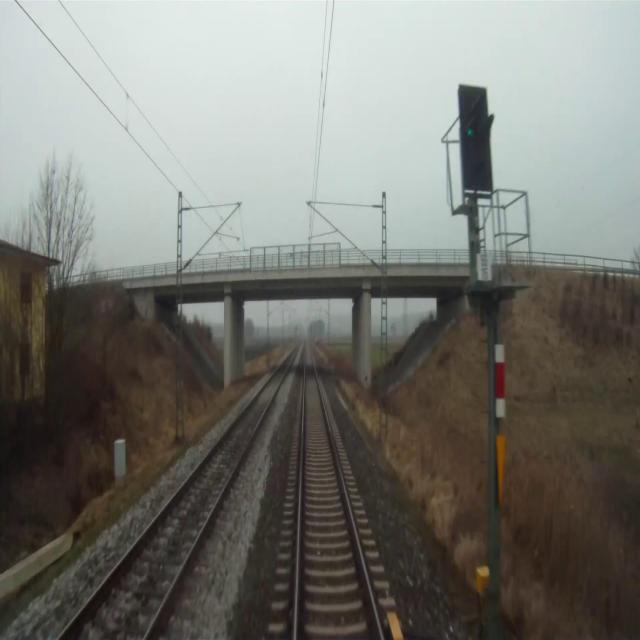rail-track: (62, 351, 294, 639), (297, 347, 378, 639)
